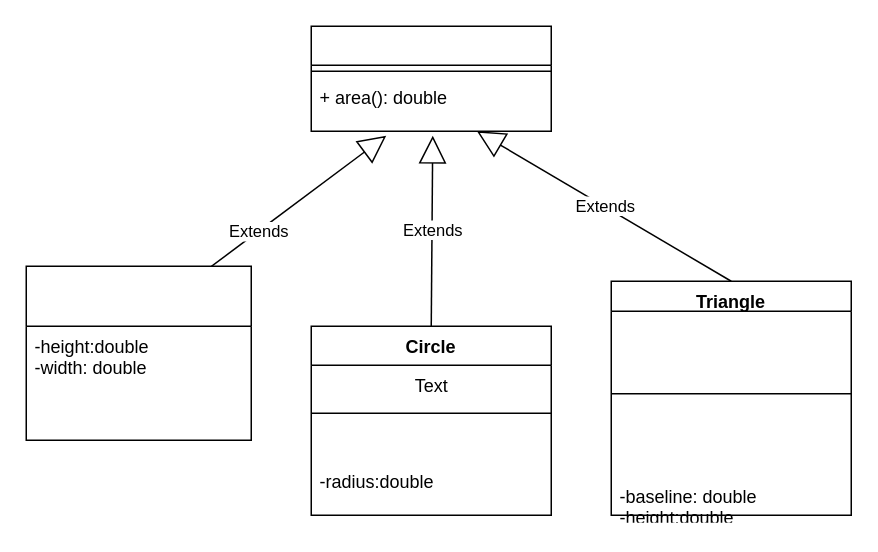
This 878x552 diagram has some shape labels left out. The shapes that lost their labels are listed below. From the top down, each one's box as (x1, y1, x2, y2) in pixels, then its label:
(310, 25, 551, 131): Shape
(25, 265, 251, 440): Rectangle
